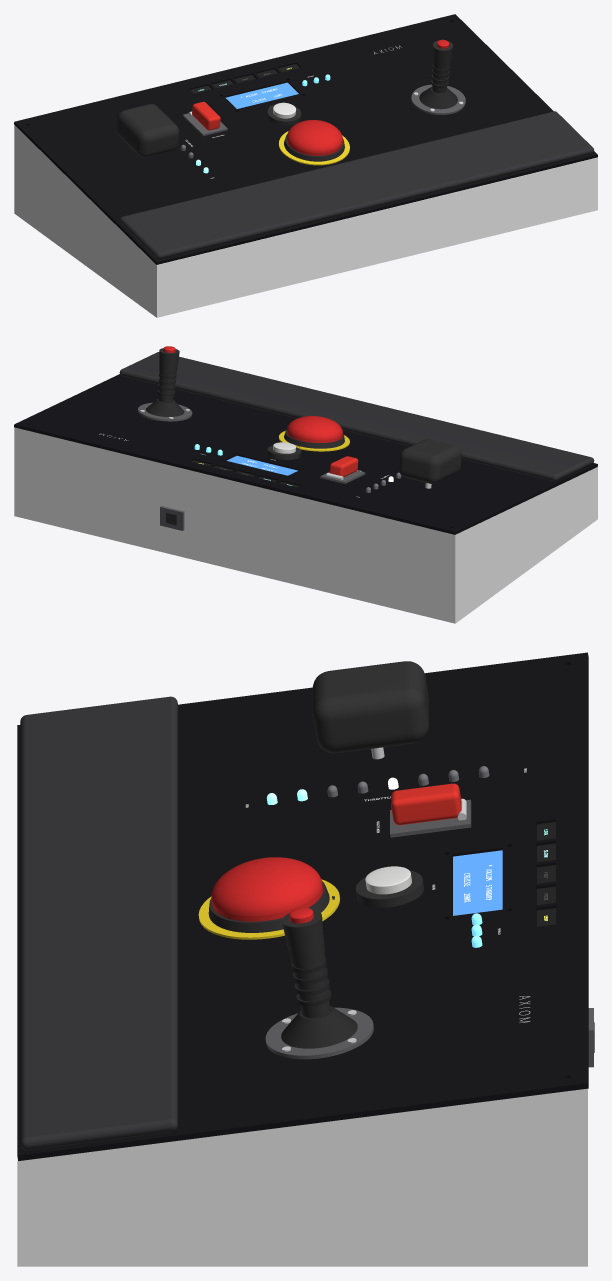
The model's file is axiom_cockpit_roomy.glb.
The picture shows the model from 3 angles, top to bottom: view 1: azimuth 30°, elevation 25°; view 2: azimuth 150°, elevation 25°; view 3: azimuth 270°, elevation 25°; orthographic projection. The views are drawn at different scales.
Parts seen in each view (by area): view 1: Top panel (3 mm acrylic), Palm rest, Front wall, Side left, Bottom, Throttle knob, EMP dome, LCD glass, Stick pressure ring, Stick boot, ARM cover, EMP legend plate (+2 smaller); view 2: Back wall, Top panel (3 mm acrylic), Palm rest, Side left, Bottom, Throttle knob, EMP dome, LCD glass, Side right, Stick boot, Stick head, ARM cover (+3 smaller); view 3: Top panel (3 mm acrylic), Side right, Palm rest, Throttle knob, Bottom, EMP dome, LCD glass, ARM cover, Stick boot, Stick pressure ring, Stick head, EMP legend plate (+4 smaller).
Part boxes in pixels (x1,y1,x2,y2): Top panel (3 mm acrylic): [14, 14, 597, 264]; Palm rest: [119, 111, 594, 258]; Front wall: [162, 158, 592, 310]; Side left: [14, 125, 161, 312]; Bottom: [14, 204, 597, 317]; Throttle knob: [116, 104, 179, 157]; EMP dome: [287, 120, 342, 153]; LCD glass: [225, 82, 298, 108]; Stick pressure ring: [411, 84, 465, 114]; Stick boot: [419, 86, 457, 109]; ARM cover: [192, 101, 220, 130]; EMP legend plate: [278, 131, 349, 165]; Back wall: [19, 429, 449, 616]; Top panel (3 mm acrylic): [14, 374, 597, 534]; Palm rest: [119, 352, 594, 481]; Side left: [450, 467, 597, 617]; Bottom: [14, 510, 597, 623]; Throttle knob: [398, 439, 461, 483]; EMP dome: [287, 416, 342, 440]; LCD glass: [226, 455, 297, 475]; Side right: [14, 427, 19, 511]; Stick boot: [146, 398, 184, 416]; Stick head: [159, 348, 179, 374]; ARM cover: [329, 456, 358, 476]; Top panel (3 mm acrylic): [17, 652, 588, 1160]; Side right: [17, 1088, 587, 1255]; Palm rest: [20, 696, 177, 1150]; Throttle knob: [312, 661, 428, 753]; Bottom: [17, 1255, 587, 1266]; EMP dome: [211, 857, 322, 916]; LCD glass: [453, 850, 502, 915]; ARM cover: [391, 783, 461, 825]; Stick boot: [281, 1005, 357, 1048]; Stick pressure ring: [265, 1007, 373, 1059]; Stick head: [281, 909, 325, 966]; EMP legend plate: [198, 879, 340, 939].
Bounding box in the file's own units: 0.5 × 0.1534 × 0.2833.
